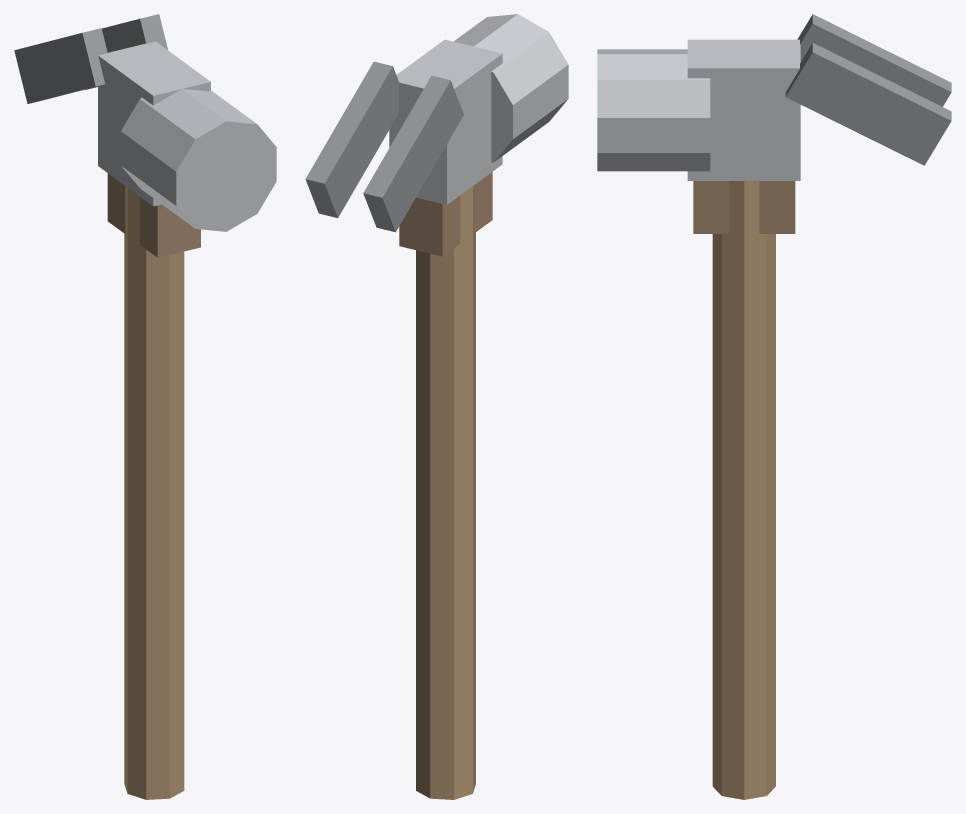
File: hammer.glb
The picture shows the model from 3 angles, left to right: view 1: azimuth 30°, elevation 25°; view 2: azimuth 150°, elevation 25°; view 3: azimuth 270°, elevation 25°; orthographic projection.
Visible parts, largest first — view 1: hammer; view 2: hammer; view 3: hammer.
Part boxes in pixels (<box>): hammer: <box>14,14,276,799</box>; hammer: <box>305,14,568,799</box>; hammer: <box>597,14,951,799</box>.
Size of the model in its own units: 0.1046 by 0.7355 by 0.3134.
